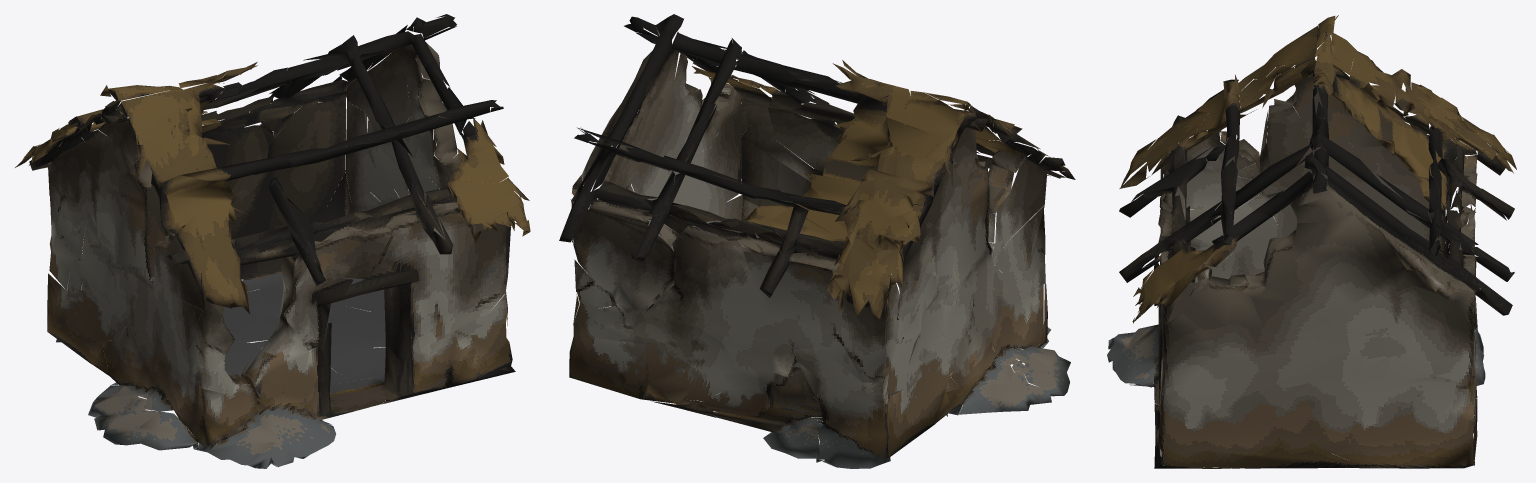
File: rancho.glb
3 views of the same model, side by side, from view 1: azimuth 30°, elevation 25°; view 2: azimuth 150°, elevation 25°; view 3: azimuth 270°, elevation 25° (orthographic). The views are drawn at different scales.
Visible parts, largest first — view 1: tripo_node_d7544b6e-4ecf-4ba0-ab30-47ec2a56631a; view 2: tripo_node_d7544b6e-4ecf-4ba0-ab30-47ec2a56631a; view 3: tripo_node_d7544b6e-4ecf-4ba0-ab30-47ec2a56631a.
Boxes of the visible parts, <box> form: tripo_node_d7544b6e-4ecf-4ba0-ab30-47ec2a56631a: <box>15,14,530,468</box>; tripo_node_d7544b6e-4ecf-4ba0-ab30-47ec2a56631a: <box>559,14,1075,468</box>; tripo_node_d7544b6e-4ecf-4ba0-ab30-47ec2a56631a: <box>1107,15,1516,468</box>.
Bounding box in the file's own units: 1.27 × 0.9966 × 1.17.
Materials: 1 (1 with a texture image).
